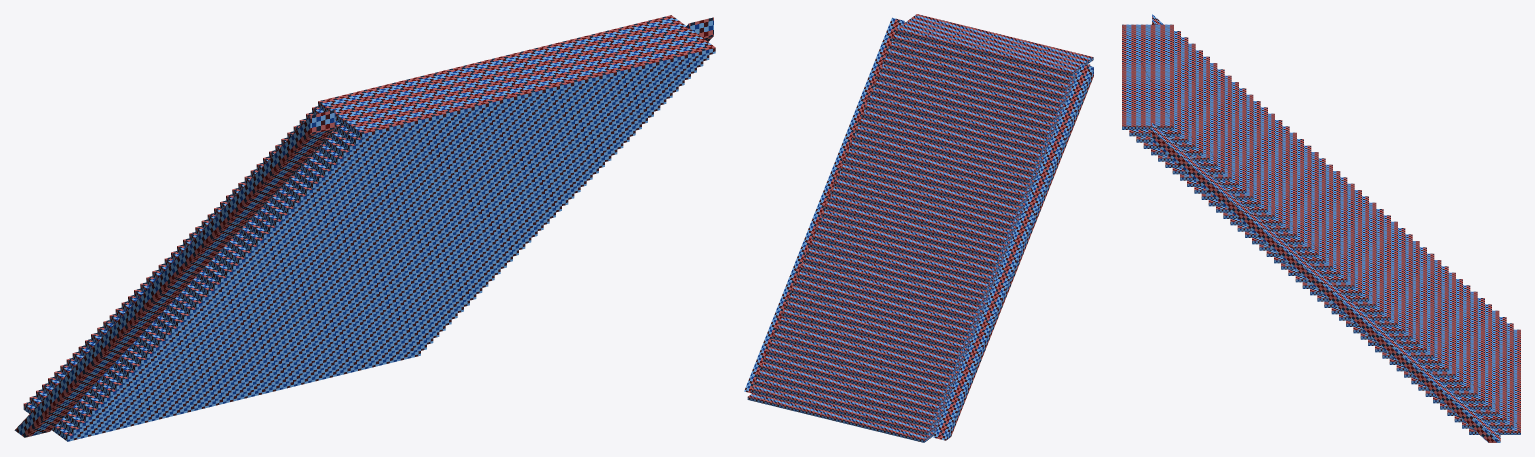
Rendered from Stairs.fbx.
The picture shows the model from 3 angles, left to right: view 1: azimuth 30°, elevation 25°; view 2: azimuth 150°, elevation 25°; view 3: azimuth 270°, elevation 25°; orthographic projection. The views are drawn at different scales.
Visible parts, largest first — view 1: Stairs; view 2: Stairs; view 3: Stairs.
Part boxes in pixels (bbox=[...]): Stairs: bbox=[14, 15, 715, 441]; Stairs: bbox=[744, 14, 1093, 442]; Stairs: bbox=[1122, 14, 1520, 442].
Size of the model in its own units: 400 by 503 by 581.
1 material, 1 textured.
